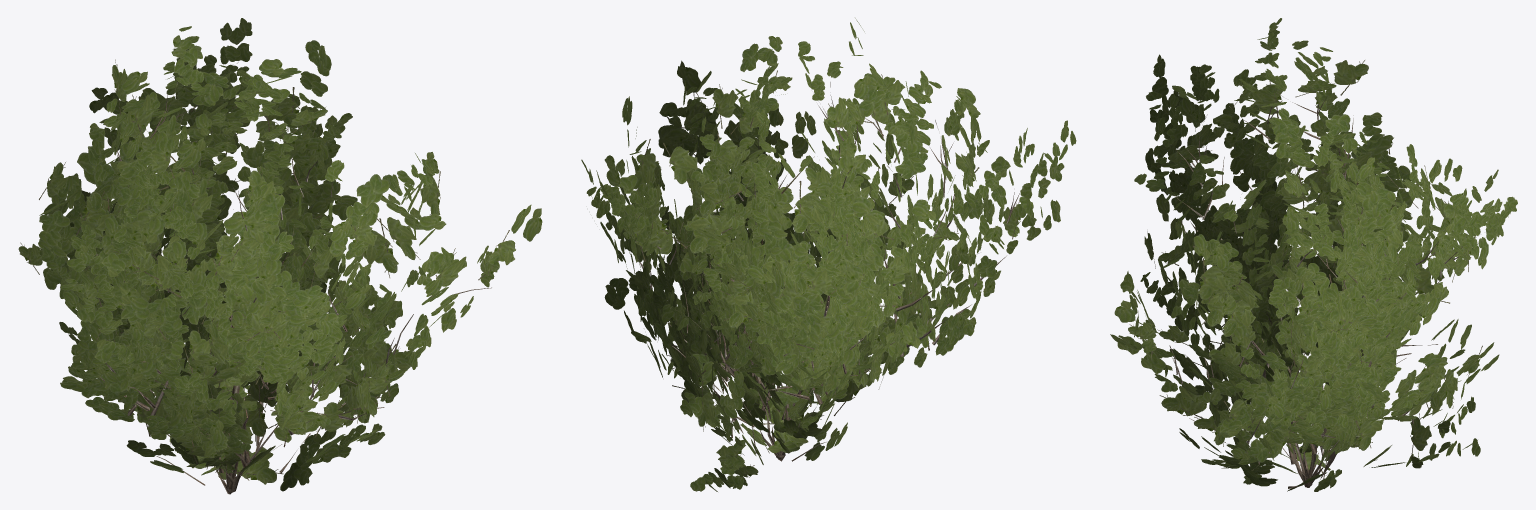
Rendered from searsia_lucida.glb.
3 renders of one model, left to right at view 1: azimuth 30°, elevation 25°; view 2: azimuth 150°, elevation 25°; view 3: azimuth 270°, elevation 25°, orthographic. The views are drawn at different scales.
Visible parts, largest first — view 1: bush_large_LOD0, bush_medium_LOD0, bush_small_LOD0, bush_tiny_LOD0; view 2: bush_large_LOD0, bush_medium_LOD0, bush_small_LOD0, bush_tiny_LOD0; view 3: bush_large_LOD0, bush_medium_LOD0, bush_small_LOD0, bush_tiny_LOD0.
Part boxes in pixels (x1,y1,x2,y2): bush_large_LOD0: (18,18,542,491); bush_medium_LOD0: (38,71,417,485); bush_small_LOD0: (71,184,425,493); bush_tiny_LOD0: (142,236,320,494); bush_large_LOD0: (581,18,1076,491); bush_medium_LOD0: (614,90,959,461); bush_small_LOD0: (628,180,920,461); bush_tiny_LOD0: (688,266,861,459); bush_large_LOD0: (1110,18,1517,491); bush_medium_LOD0: (1140,112,1437,491); bush_small_LOD0: (1208,146,1419,487); bush_tiny_LOD0: (1250,291,1385,487).
Size of what is drawn, in the model's own units: 1.48 by 1.52 by 1.29.
Materials: 2 (2 with a texture image).
